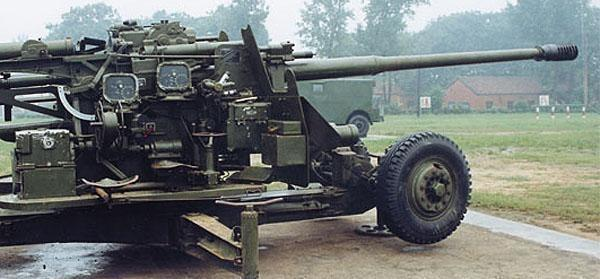MIL_SPG: (0, 21, 578, 261)
